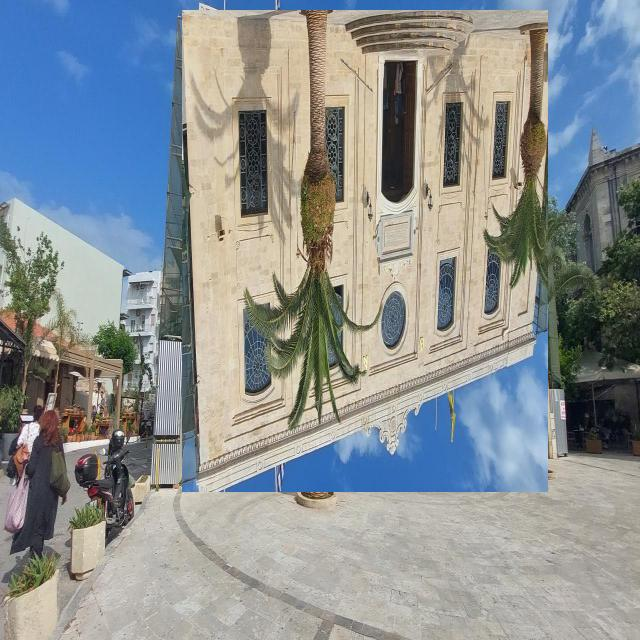Agios Titos: (183, 11, 549, 493)
